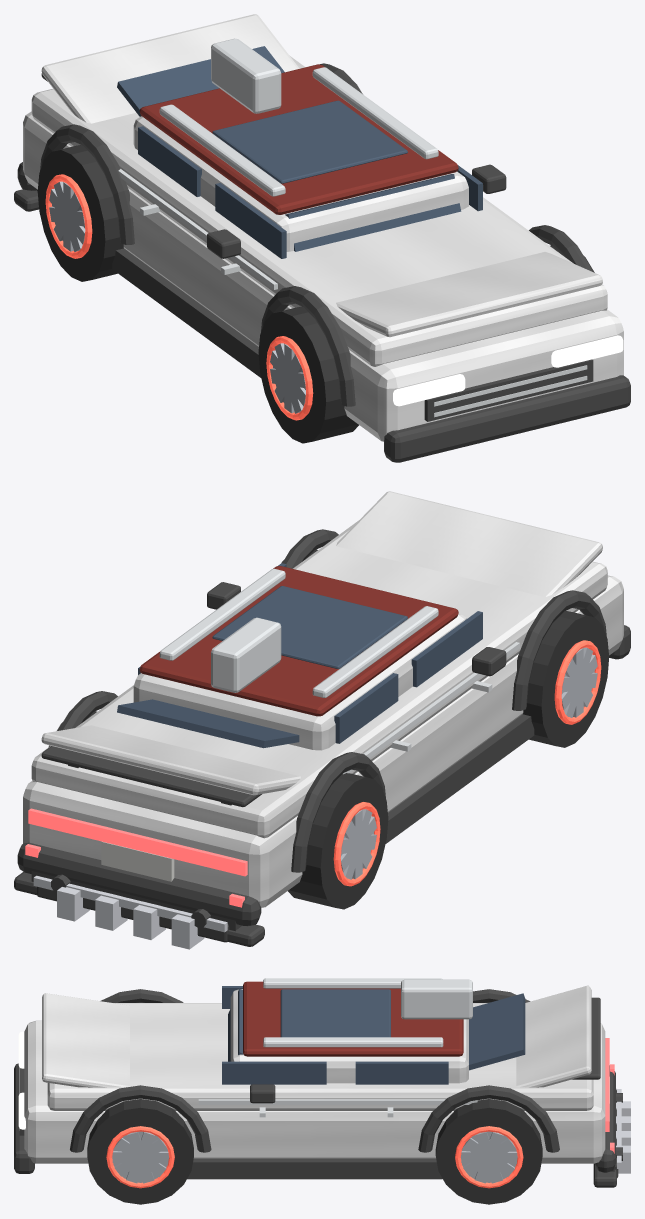
File: car.glb
3 renders of one model, top to bottom at view 1: azimuth 30°, elevation 25°; view 2: azimuth 150°, elevation 25°; view 3: azimuth 270°, elevation 25°, orthographic. The views are drawn at different scales.
Visible parts, largest first — view 1: Body, WheelFL, WheelRL; view 2: Body, WheelRL, WheelFL, Spoiler; view 3: Body, WheelFR, WheelRR, Spoiler.
Boxes of the visible parts, <box> form: Body: <box>14,14,630,462</box>; WheelFL: <box>258,306,358,443</box>; WheelRL: <box>37,145,123,281</box>; Body: <box>14,491,630,949</box>; WheelRL: <box>288,773,388,909</box>; WheelFL: <box>523,611,609,747</box>; Spoiler: <box>41,746,261,807</box>; Body: <box>14,978,630,1187</box>; WheelFR: <box>87,1099,193,1204</box>; WheelRR: <box>435,1099,542,1204</box>; Spoiler: <box>572,997,600,1079</box>.
Size of the model in its own units: 2.31 by 1.58 by 5.31.
Materials: 12 (1 with a texture image).
